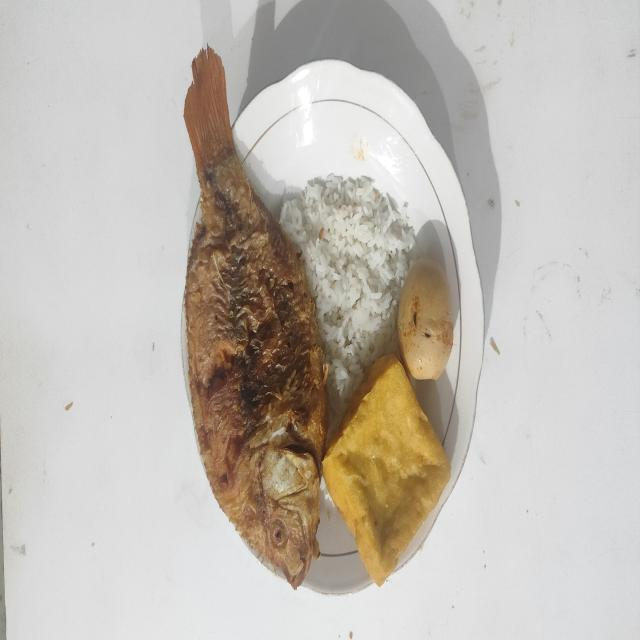ikan_mujair: (184, 46, 328, 588)
nasi_putih: (280, 173, 416, 434)
tahu_goreng: (322, 355, 450, 586)
